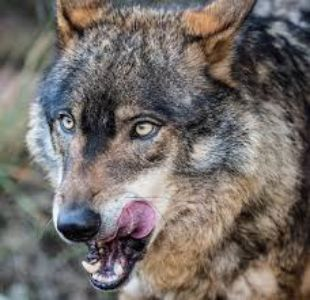wolf: (22, 3, 296, 293)
